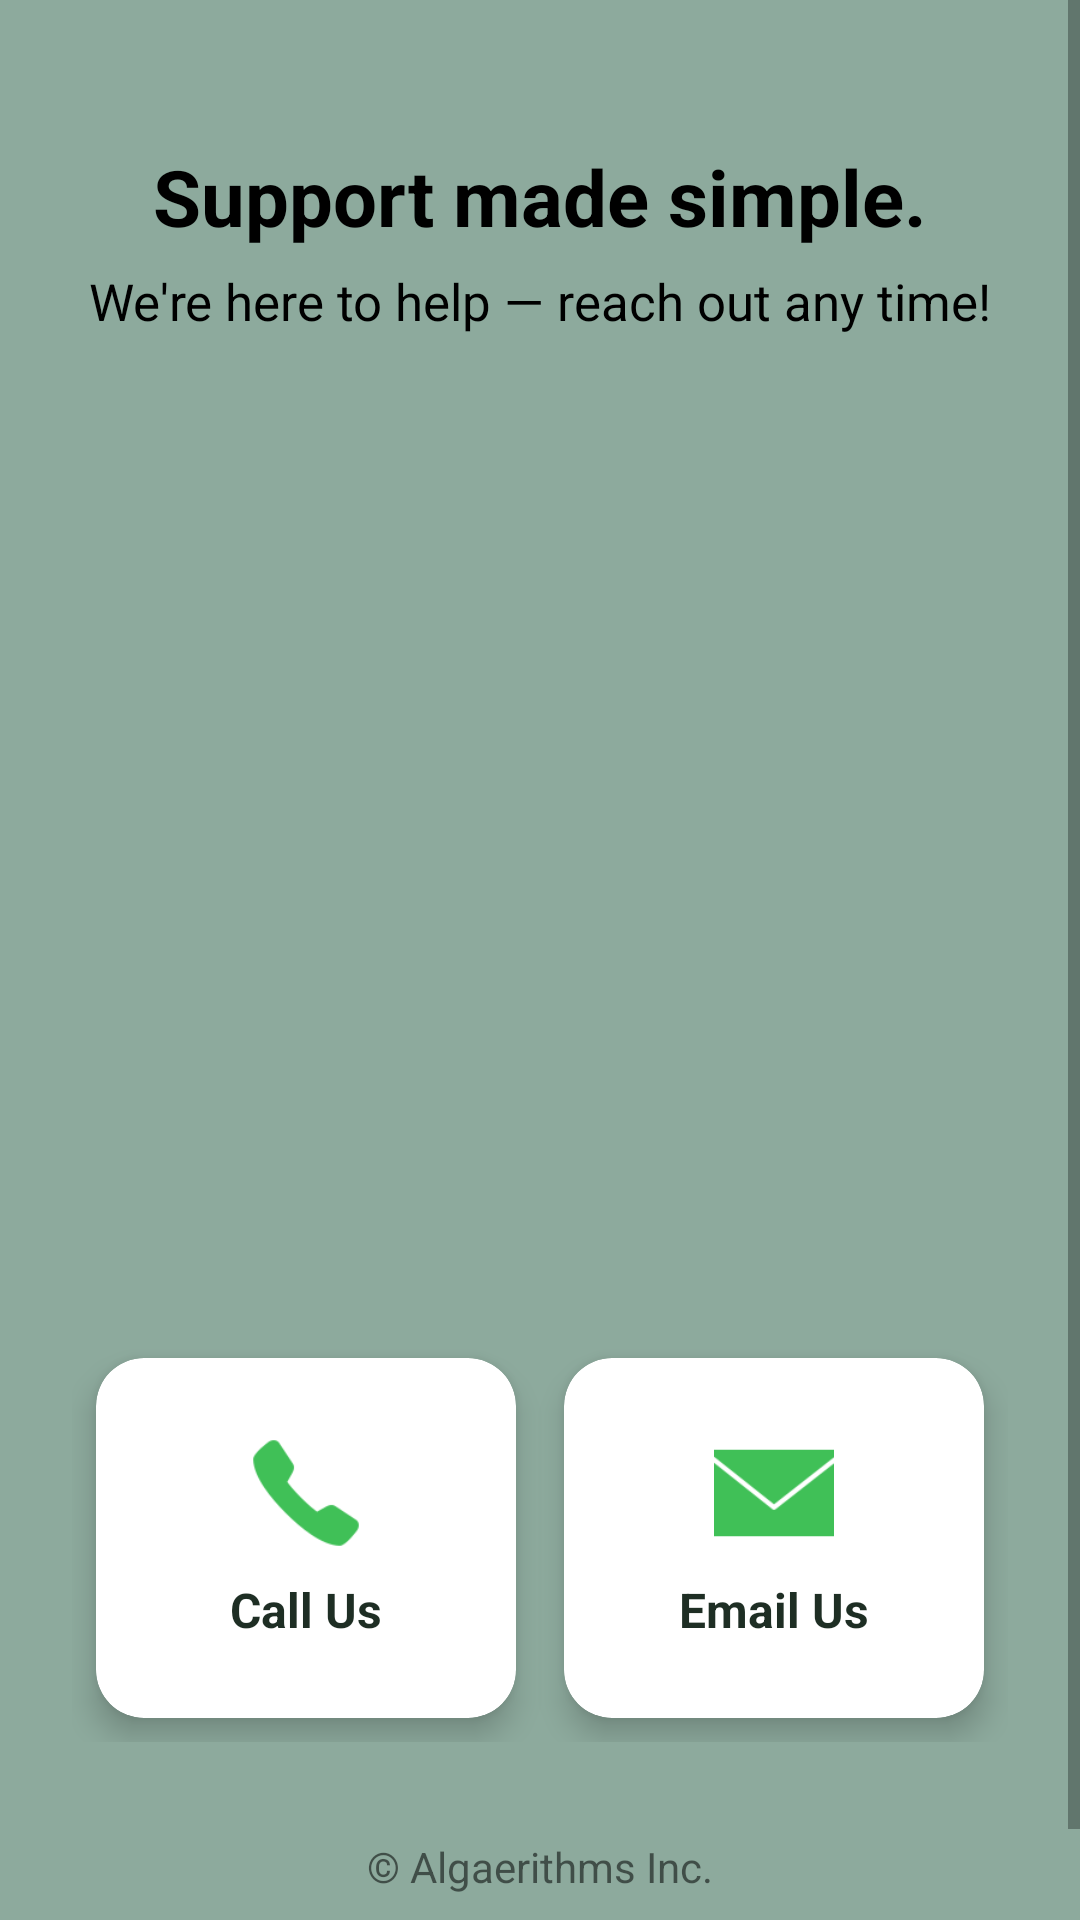

Screen size 1080*1920. Icon name, then its center in pixels as (x,y):
Phone Icon: (306,1493)
